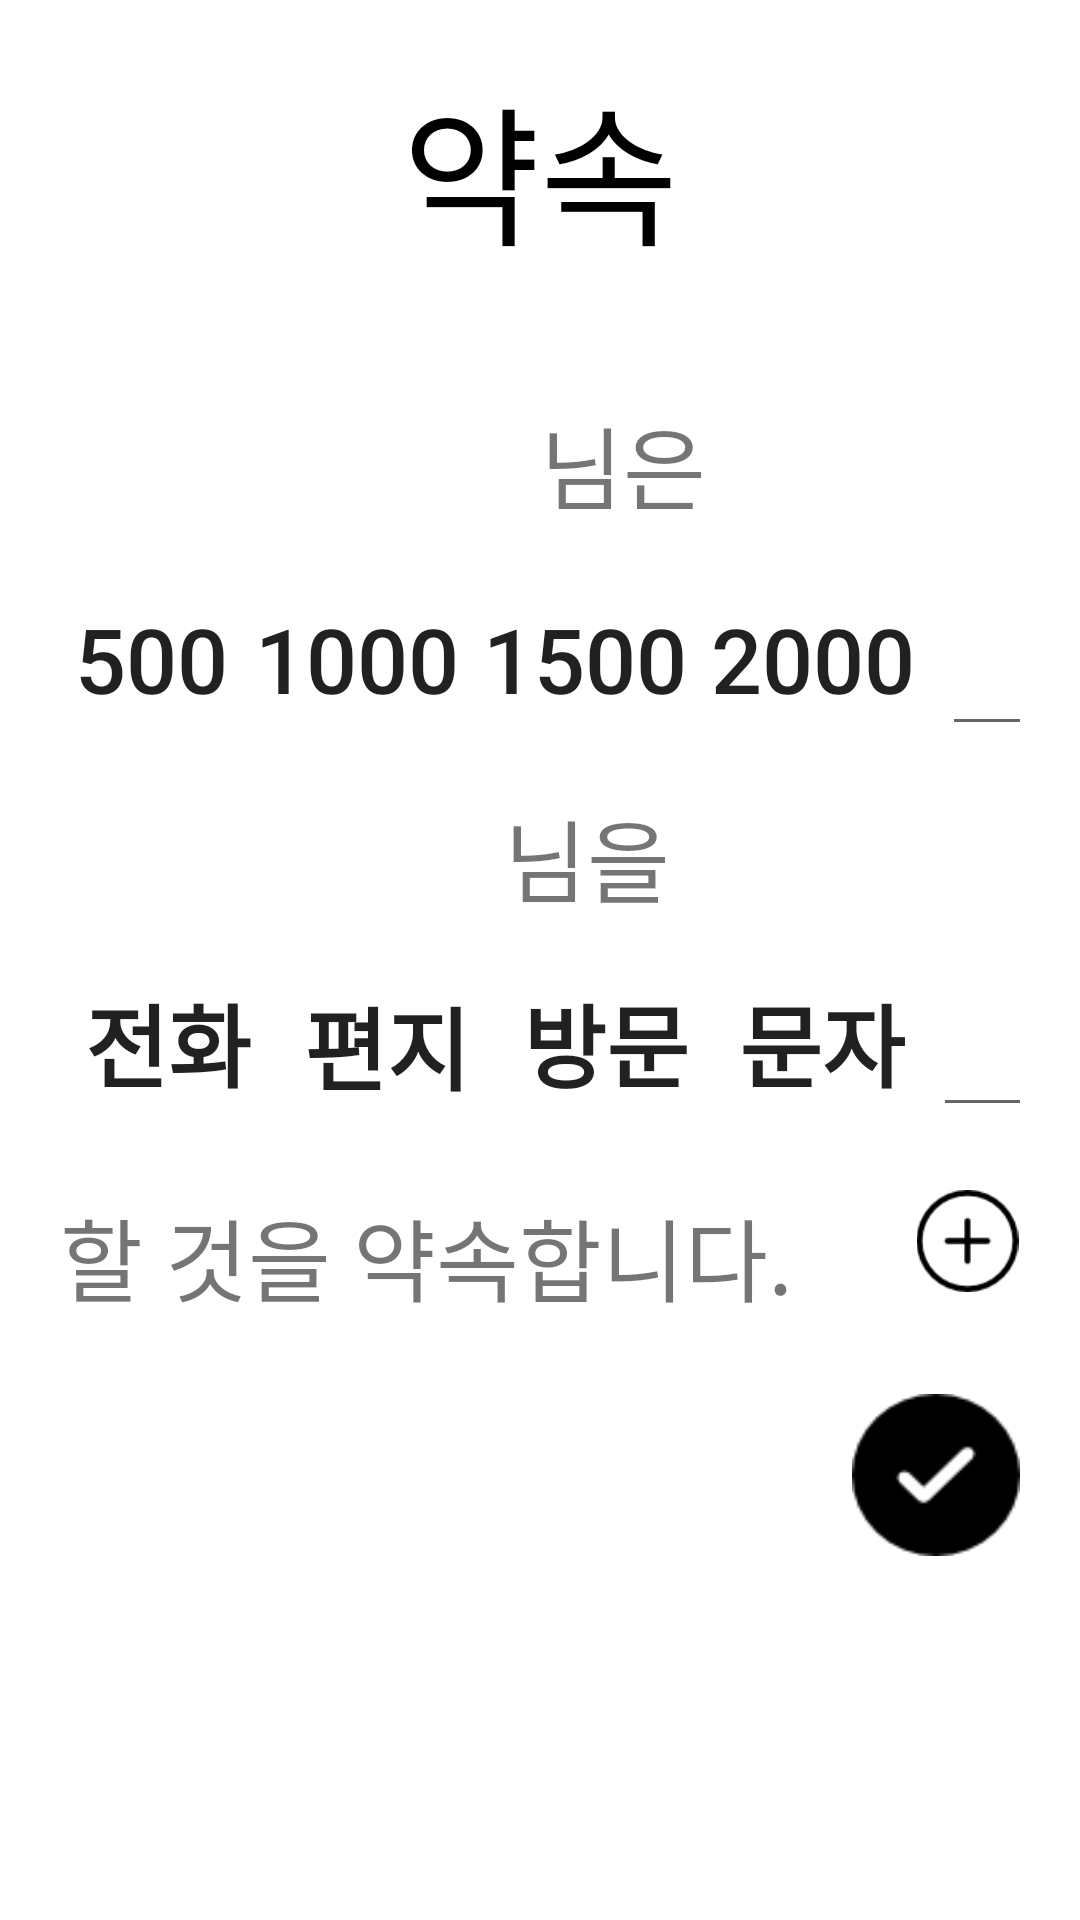

Screen size 1080px×1920px. Icon name, then its box in pixels as (x1, y1, x2, y2):
plus: (917, 1190, 1019, 1292)
